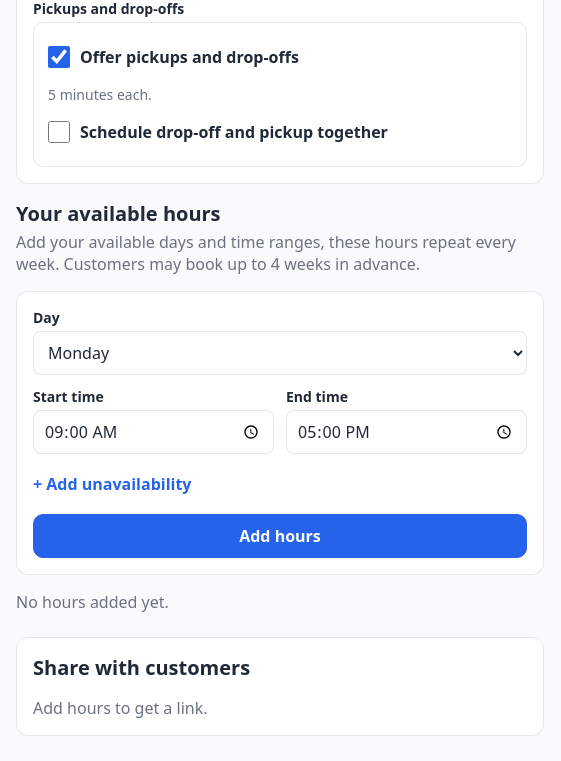
Test: Business page › rejects unavailability outside the hours
(page scrolled)
Click the button "+ Add unavailability" at (112, 484), box top-left (33, 466), bottom-right (192, 502)
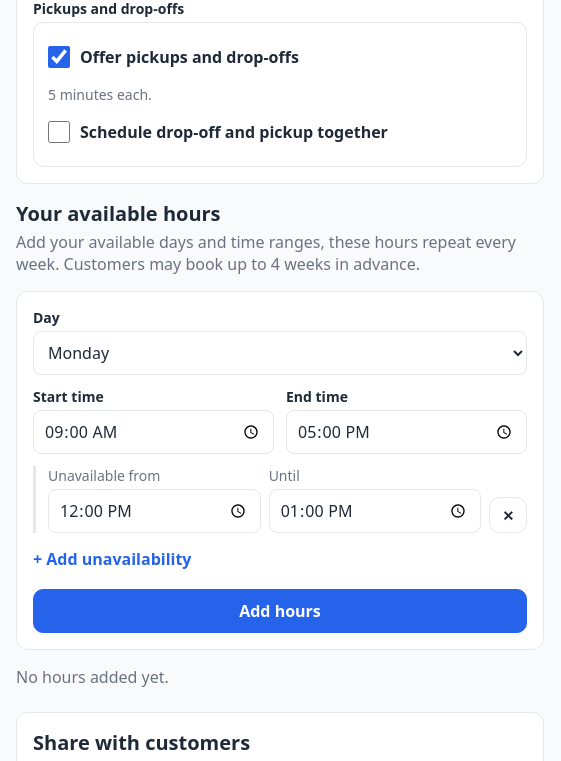
Replace the text in the time field named "Unavailability 1 start" with "18:00" at (154, 511), box top-left (48, 489), bottom-right (261, 533)
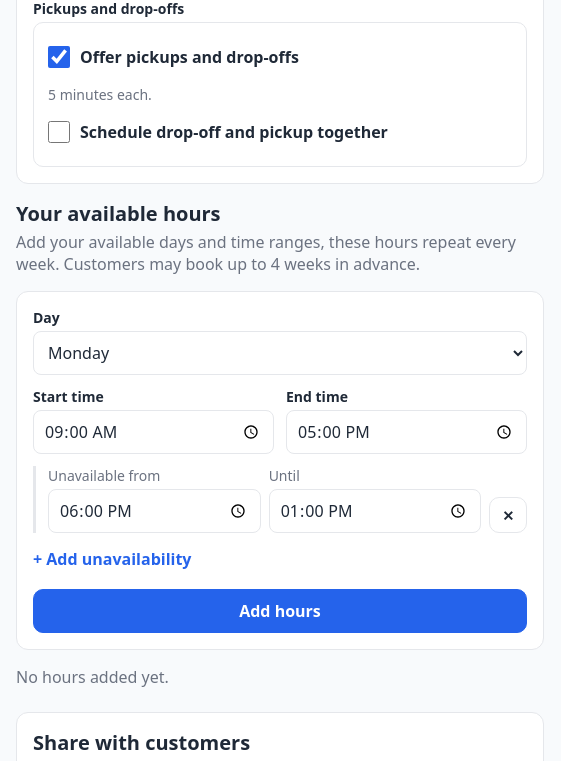
Replace the text in the time field named "Unavailability 1 end" with "19:00" at (375, 511), box top-left (269, 489), bottom-right (481, 533)
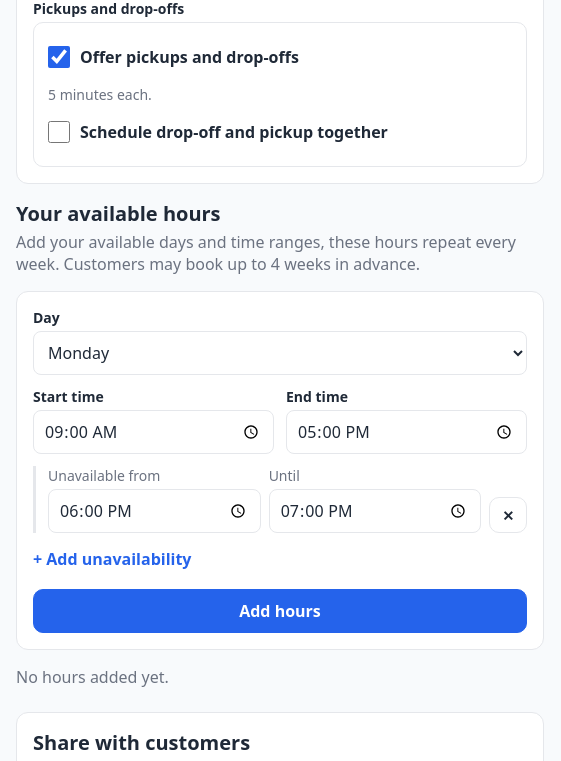
Click the button "Add hours" at (280, 611), box top-left (33, 589), bottom-right (527, 633)
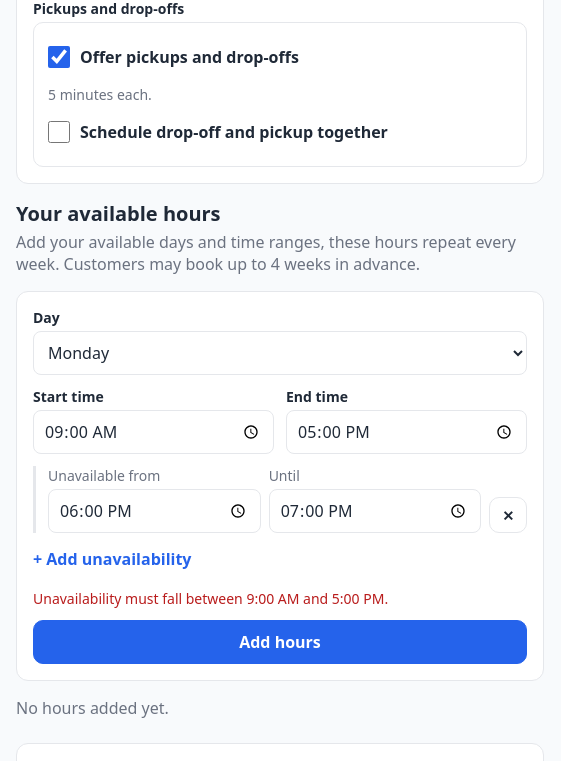
expect the text "No hours added yet." is shown: met, box top-left (16, 697), bottom-right (169, 719)
expect the message reads "Unavailability must fall between 9:00 AM and 5:00 PM.": met, box top-left (33, 589), bottom-right (388, 608)
